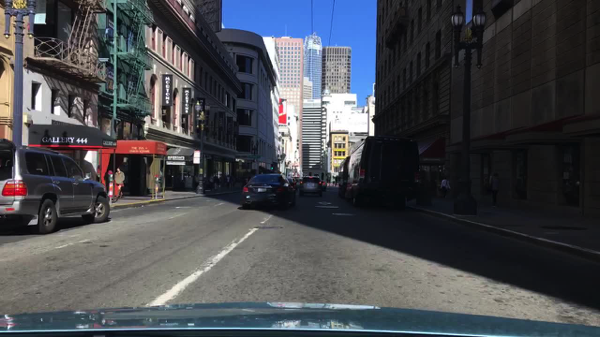car: (0, 139, 110, 233), (242, 174, 294, 212), (299, 176, 323, 197), (288, 177, 296, 191)
person: (487, 171, 499, 209), (114, 167, 124, 199), (438, 176, 450, 200), (208, 174, 214, 191), (214, 176, 220, 190), (229, 176, 233, 188), (226, 175, 229, 189)
traffic light: (271, 164, 273, 171)
traffic sign: (249, 155, 260, 159)
truck: (346, 138, 421, 207), (337, 158, 349, 200), (308, 170, 327, 188)
